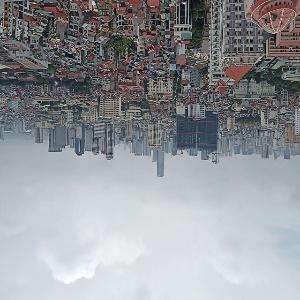drone: (33, 61, 75, 103)
